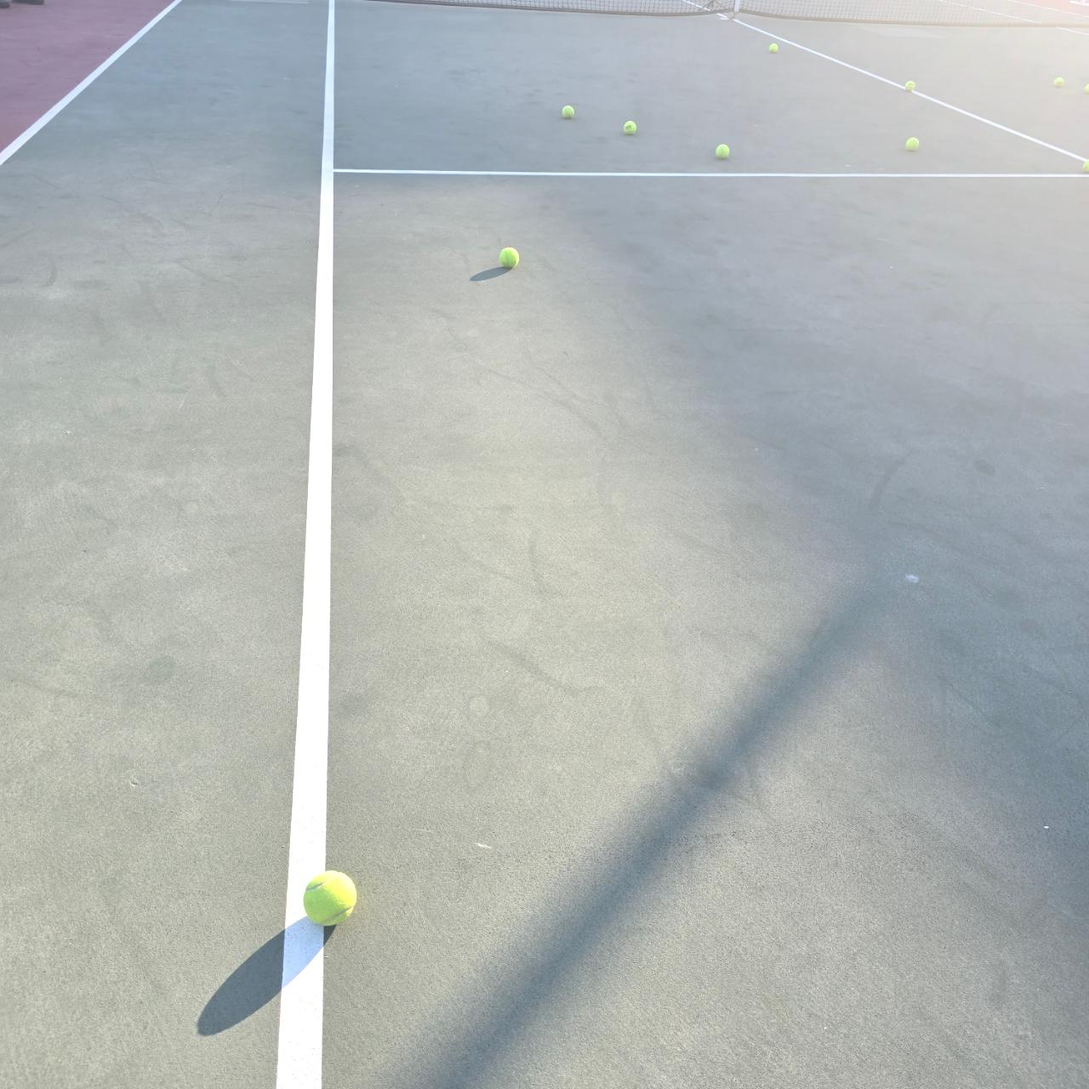tennis-ball: (302, 868, 359, 927), (499, 244, 522, 269), (716, 143, 731, 158), (561, 104, 575, 118), (906, 136, 920, 150), (624, 120, 637, 134), (905, 80, 915, 92), (1082, 158, 1089, 173), (769, 43, 778, 53), (1053, 78, 1063, 87), (1084, 83, 1089, 94)
